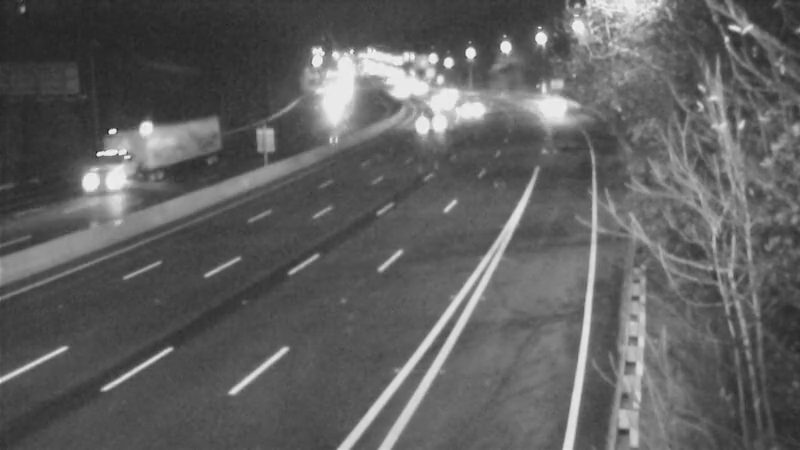vehicle: (69, 140, 149, 220), (419, 67, 469, 117), (524, 89, 574, 139), (414, 77, 464, 127), (441, 85, 491, 135), (397, 104, 447, 154)
